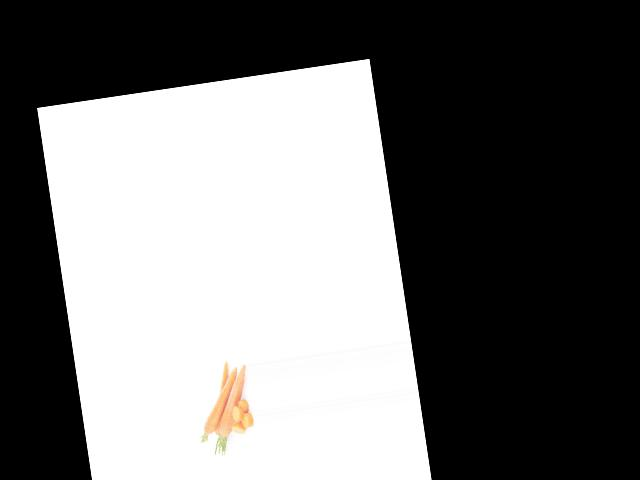carrot: (208, 364, 256, 445)
